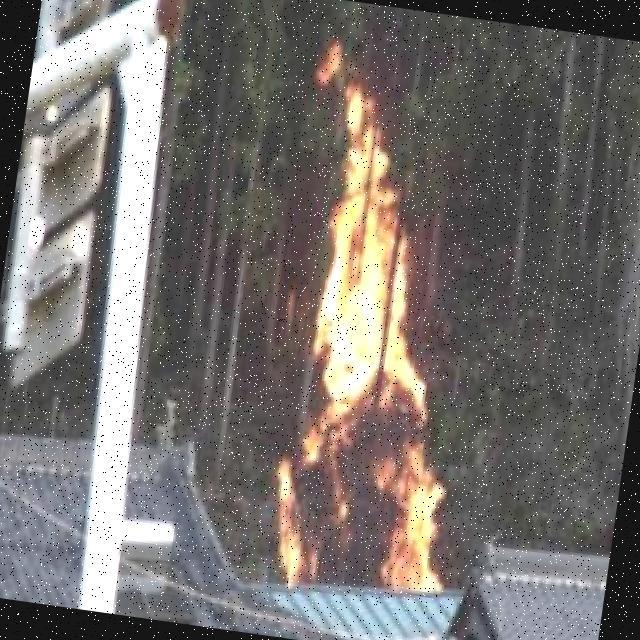Fire: (262, 58, 510, 608)
